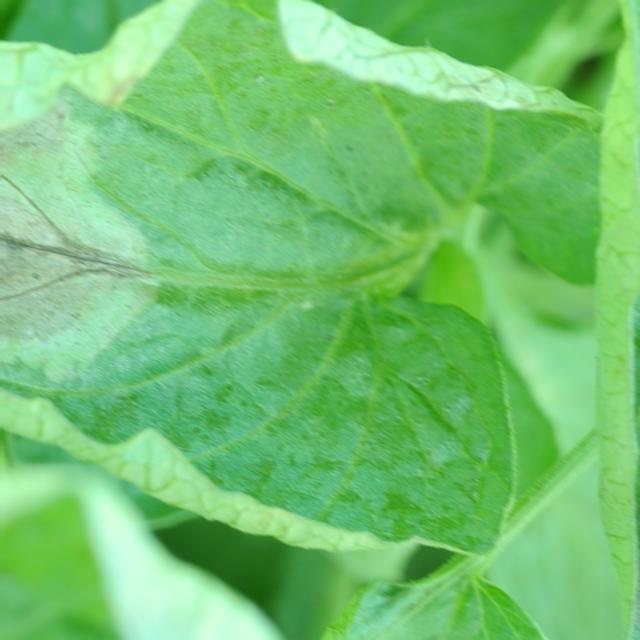Tomato leaf late blight: (0, 20, 553, 535)
